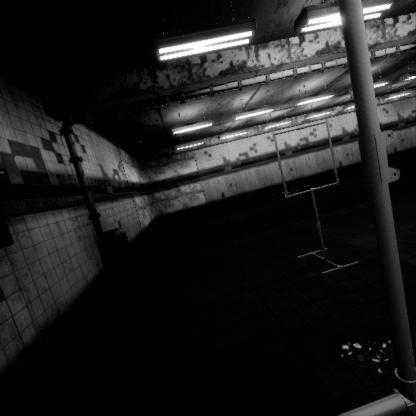gate: (272, 216, 343, 296)
